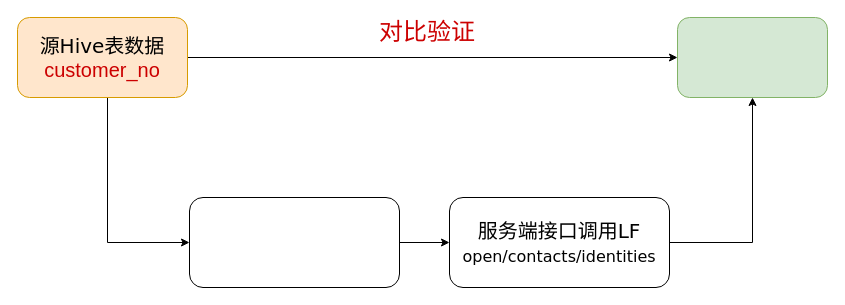
The diagram is 845 pixels wide and 305 high, and some of its shapes have lost their labels. Each missing label, with the centre of its shape:
"EasyData API" belongs at (x=294, y=242).
"MQ2Hive 身份json" belongs at (x=752, y=57).
